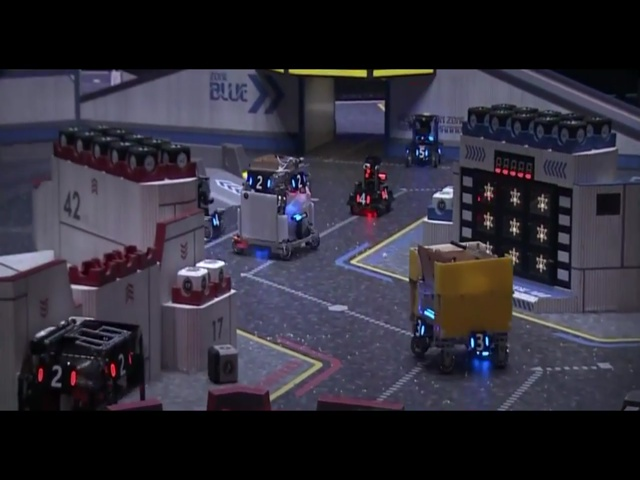plate: (37, 357, 77, 391), (108, 350, 136, 379), (248, 173, 272, 193), (469, 332, 490, 352), (287, 169, 306, 190), (410, 317, 426, 338), (414, 145, 431, 160), (355, 191, 371, 206), (210, 211, 222, 228), (379, 185, 390, 202)
